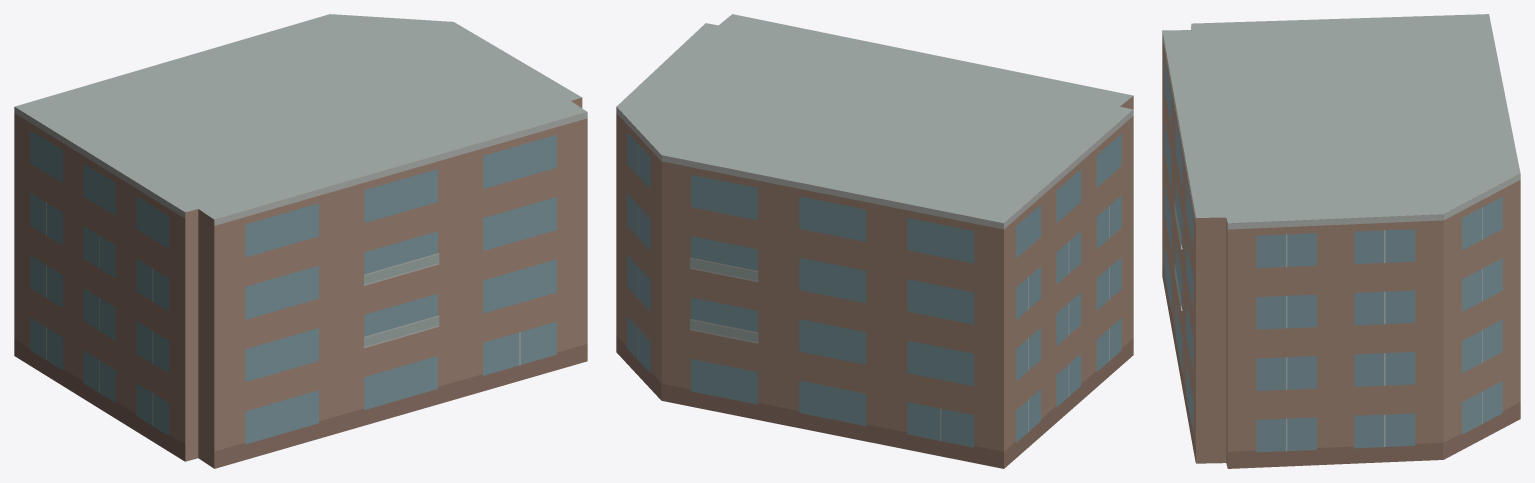
Rendered from survey-upis-32735005.glb.
3 views of the same model, side by side, from view 1: azimuth 30°, elevation 25°; view 2: azimuth 150°, elevation 25°; view 3: azimuth 270°, elevation 25° (orthographic).
Parts seen in each view (by area): view 1: survey-upis-32735005.tmp; view 2: survey-upis-32735005.tmp; view 3: survey-upis-32735005.tmp.
Boxes of the visible parts, x1,y1,x2,y2 form: survey-upis-32735005.tmp: (14,14,587,468); survey-upis-32735005.tmp: (616,14,1133,468); survey-upis-32735005.tmp: (1162,14,1520,468).
Bounding box in the file's own units: 17.55 × 9.6 × 12.7.
